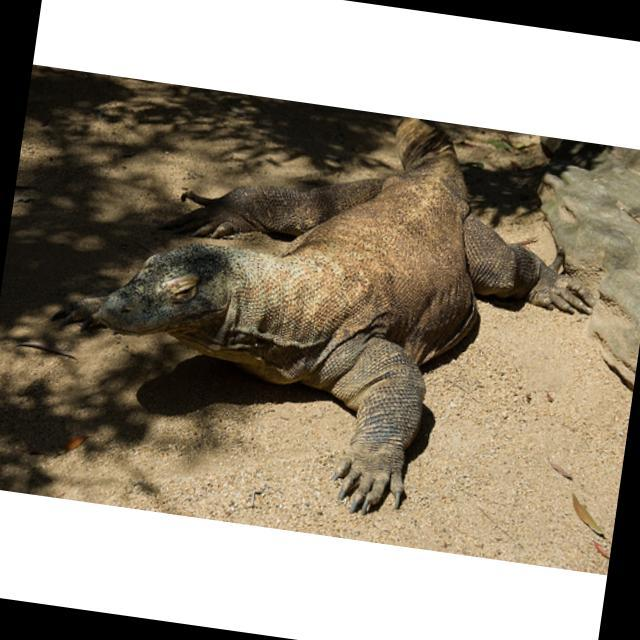KomodoDragon: (45, 74, 619, 543)
